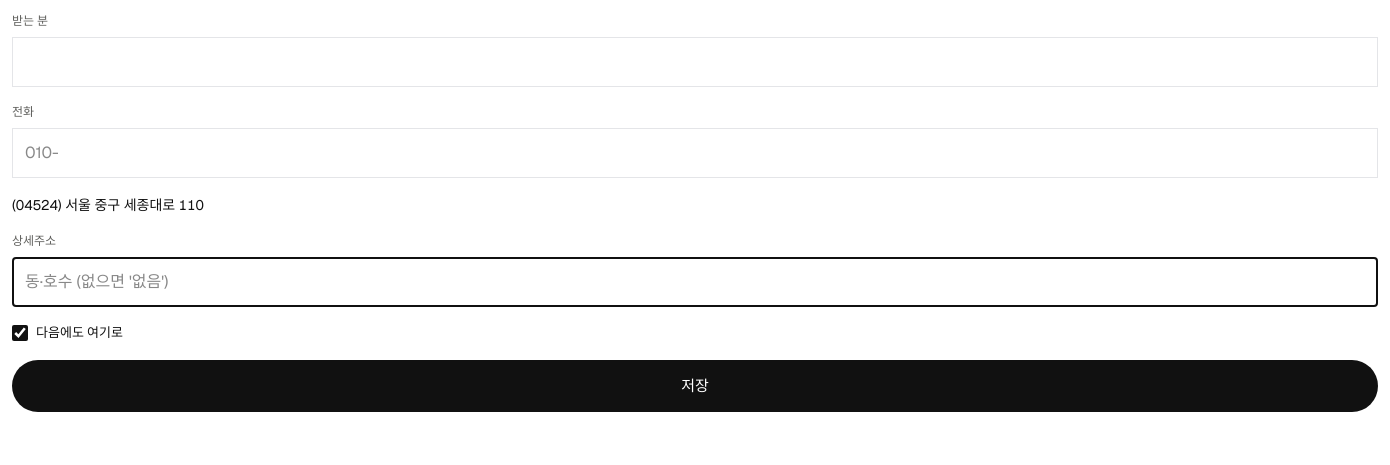
Test: AddressForm › 전화가 틀리면 → 숫자만 안내
This screenshot has width=1390, height=465.
In the field labelled "받는 분": (695, 62) [12, 37, 1378, 87], type "미나"
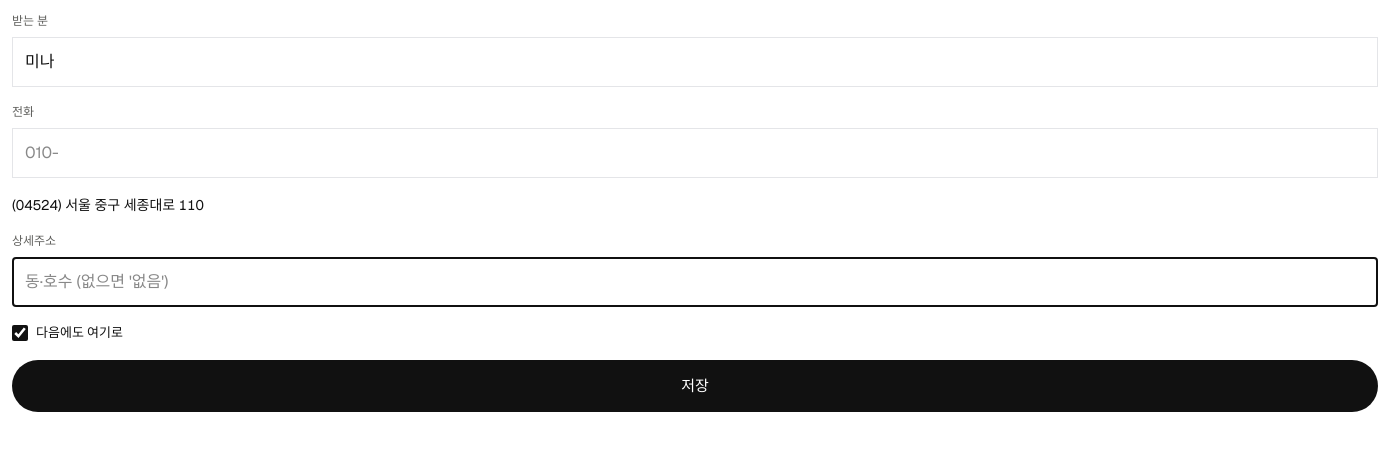
In the field labelled "전화": (695, 153) [12, 128, 1378, 178], type "021234"
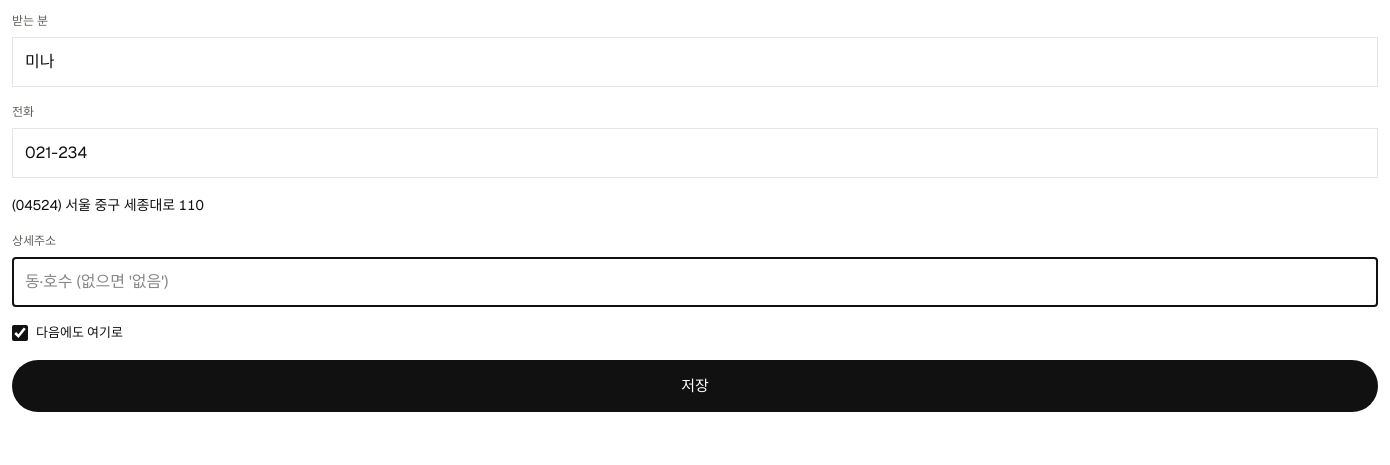
In the field labelled "상세주소": (695, 282) [12, 257, 1378, 307], type "10층"
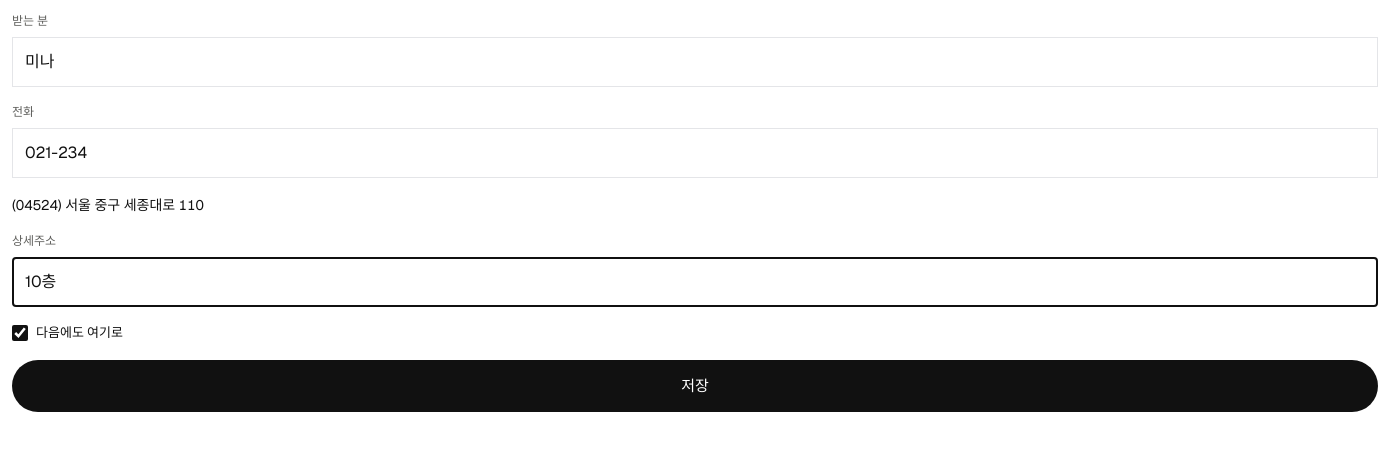
Submit the form "저장"
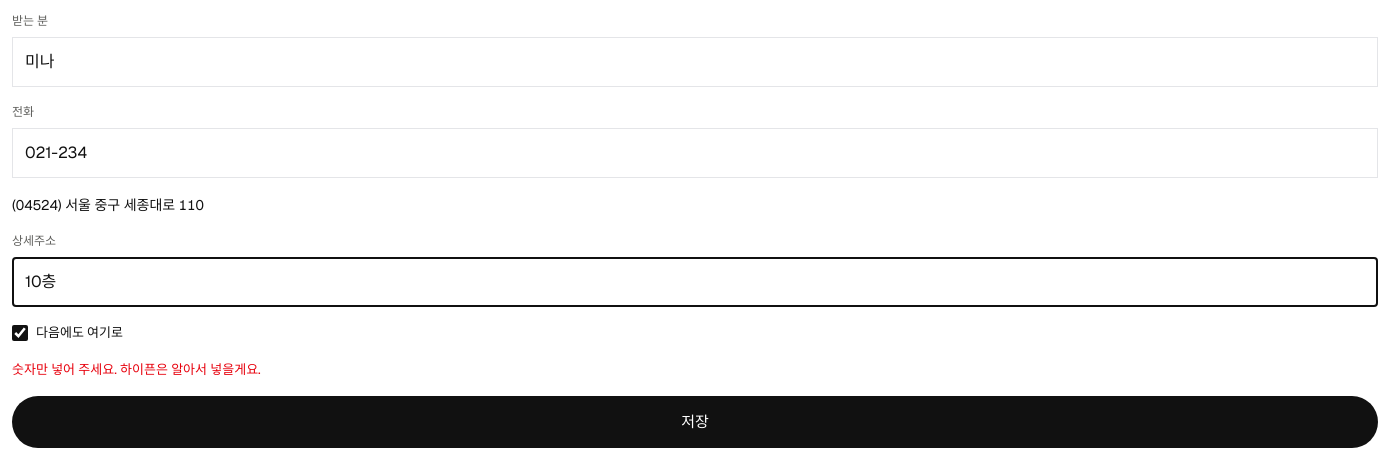
Result: the text "숫자만 넣어 주세요. 하이픈은 알아서 넣을게요." is shown at [12, 360, 261, 378]
